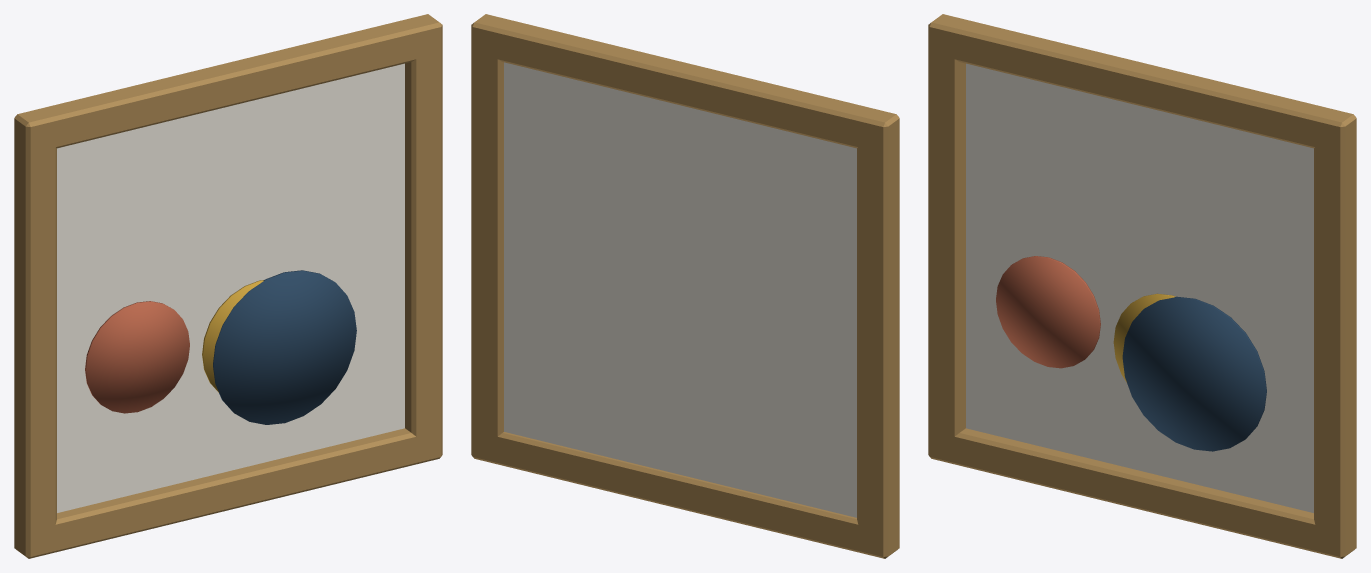
The model's file is i_pic_2.glb.
3 views of the same model, side by side, from view 1: azimuth 30°, elevation 25°; view 2: azimuth 150°, elevation 25°; view 3: azimuth 330°, elevation 25° (orthographic).
Visible parts, largest first — view 1: o.004, o.002, o.001, o.007, o, o.003, o.006, o.005; view 2: o.004, o.002, o.001, o.003, o; view 3: o.004, o.003, o.001, o.007, o.002, o, o.006, o.005.
Boxes of the visible parts, x1,y1,x2,y2 form: o.004: (57, 63, 404, 512); o.002: (14, 108, 56, 558); o.001: (14, 20, 442, 152); o.007: (213, 270, 356, 424); o: (14, 428, 442, 558); o.003: (403, 14, 442, 460); o.006: (85, 301, 189, 413); o.005: (202, 280, 263, 392); o.004: (504, 62, 856, 517); o.002: (857, 108, 899, 558); o.001: (471, 20, 899, 153); o.003: (471, 14, 510, 463); o: (471, 429, 893, 557); o.004: (966, 63, 1313, 512); o.003: (1314, 108, 1356, 558); o.001: (928, 20, 1356, 153); o.007: (1122, 296, 1266, 451); o.002: (928, 14, 967, 463); o: (928, 428, 1350, 557); o.006: (996, 256, 1100, 368); o.005: (1113, 293, 1175, 382).
Bounding box in the file's own units: 0.4 × 0.4 × 0.025.
